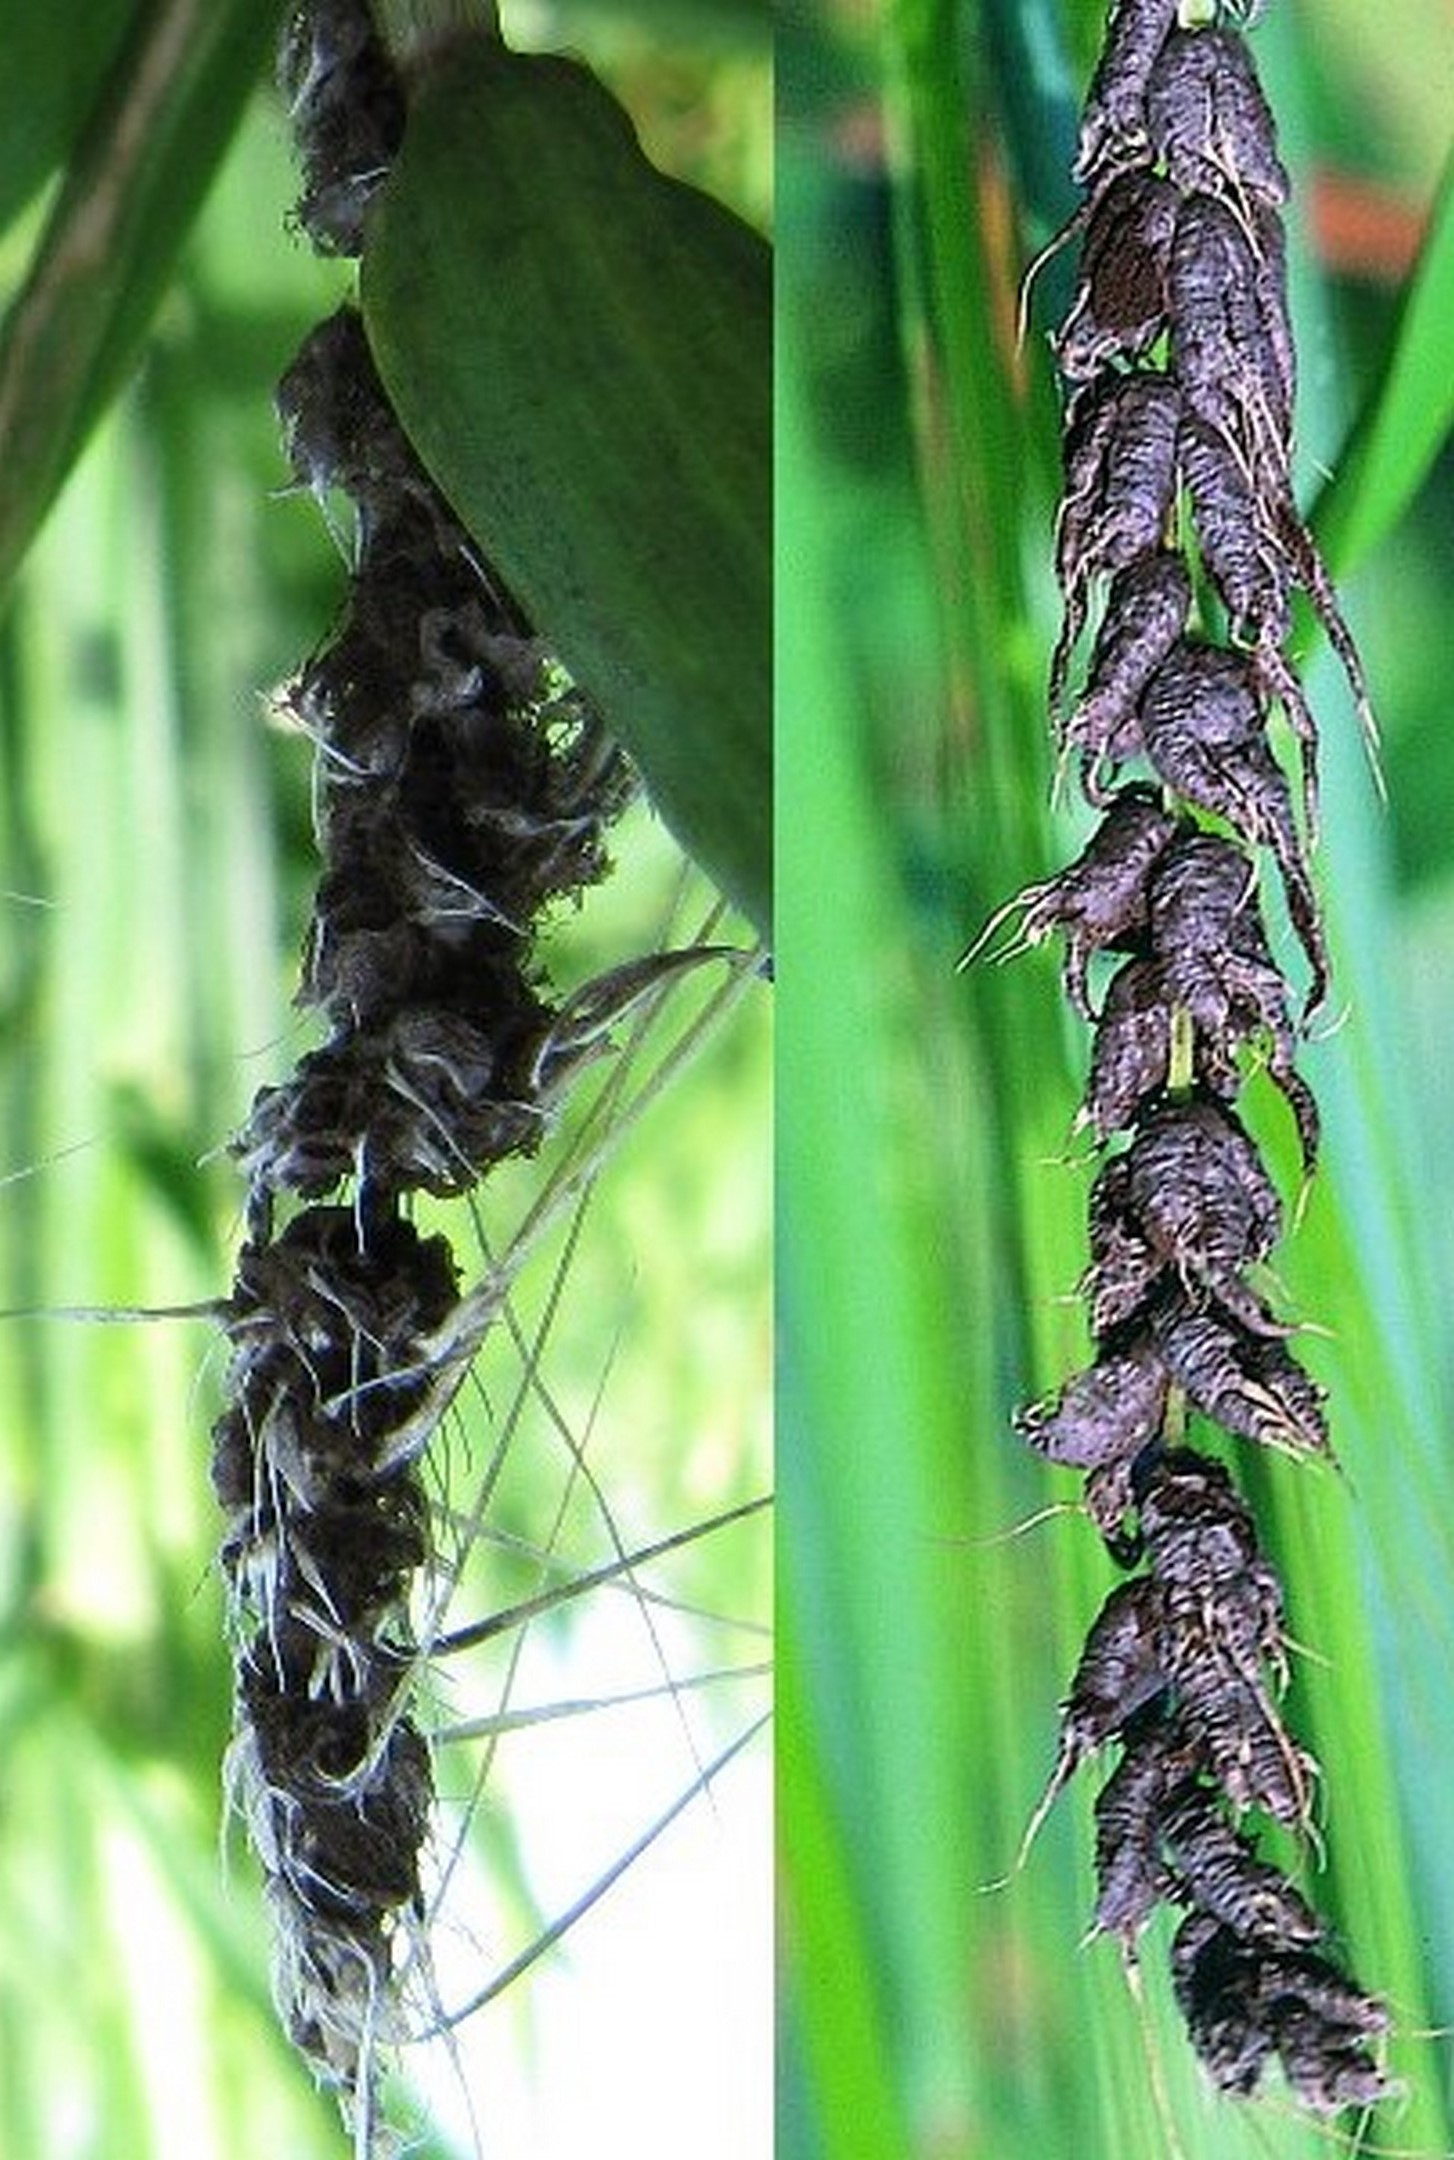Wheat Loose Smut: (961, 26, 1428, 2097), (135, 281, 657, 2003)
